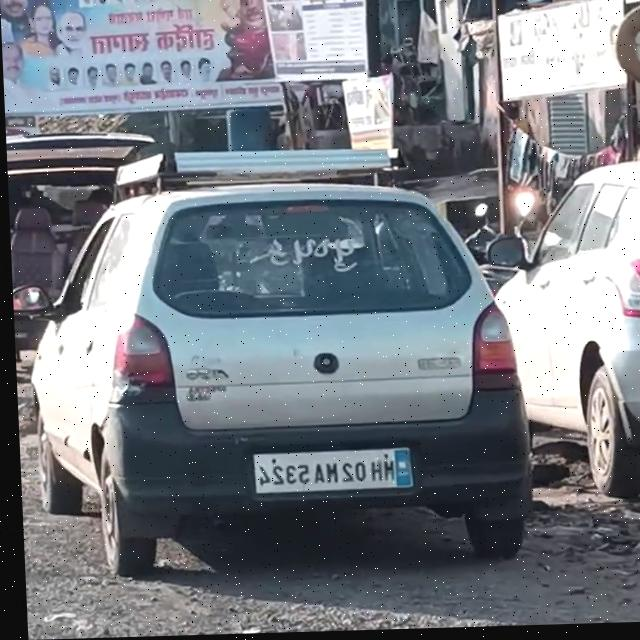plate: (247, 448, 412, 497)
